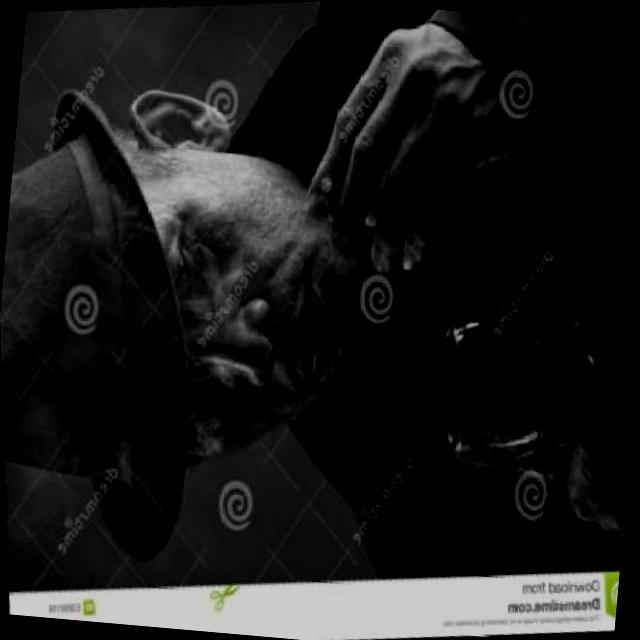cigarette: (313, 168, 354, 233)
